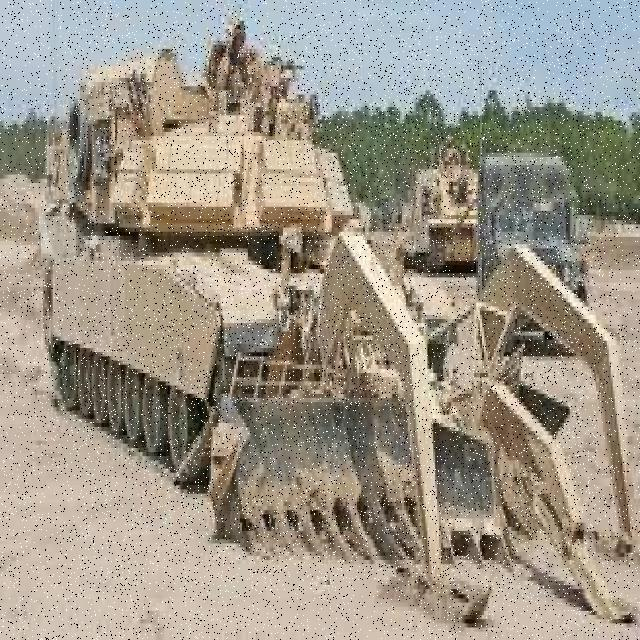MIL_MBT: (72, 33, 595, 593)
